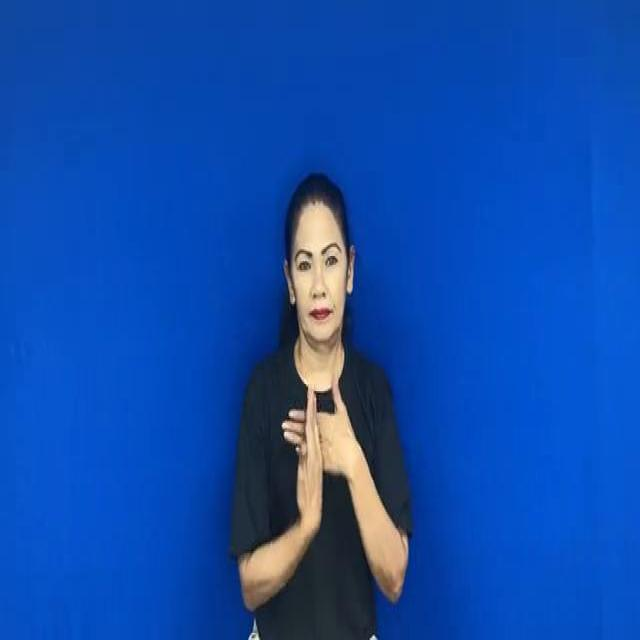bread: (272, 372, 366, 526)
